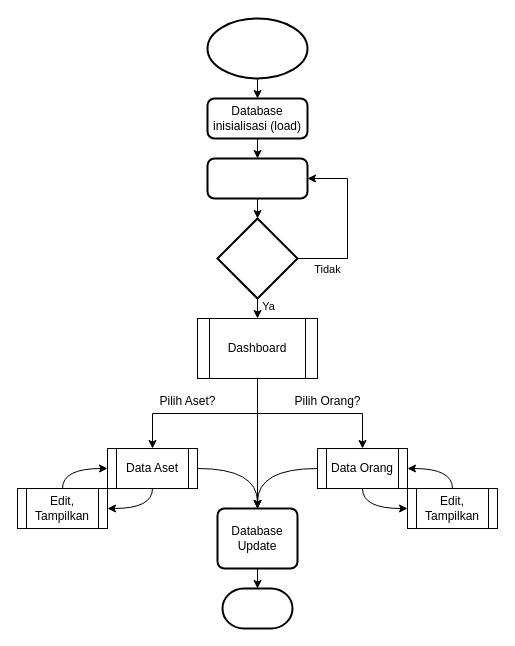
This 515x646 diagram has some shape labels left out. Here are the shapes that lost their labels. From the top down, the centre of each, then its label:
point (257, 48): Mulai
point (257, 178): Login
point (257, 258): Sesuai?
point (257, 608): Keluar
